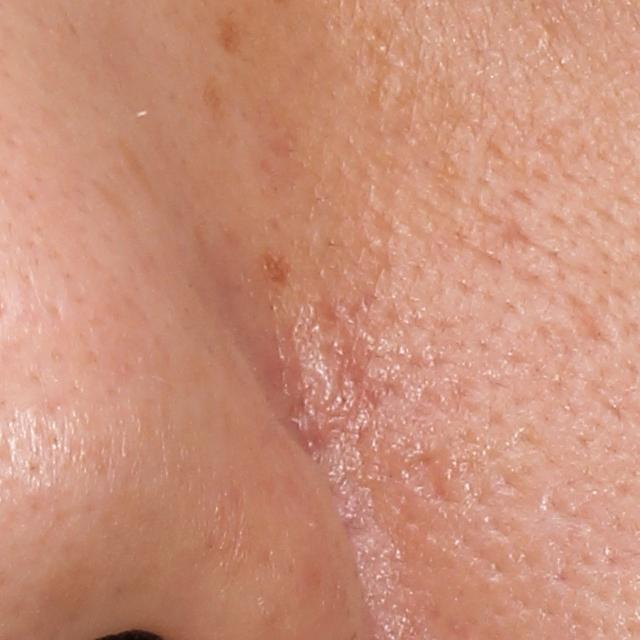atrophic_scar: (287, 298, 393, 456), (405, 448, 456, 505)
melasma: (211, 17, 243, 56), (266, 249, 293, 284)
